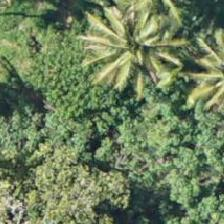coconut_tree: (100, 0, 190, 90), (85, 0, 175, 84)
